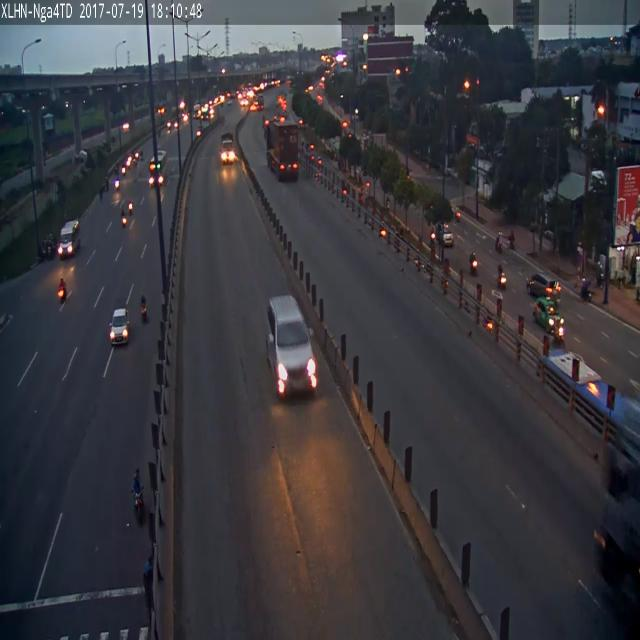car: (134, 493, 145, 525), (58, 277, 66, 301), (141, 296, 148, 323)
traffic-light: (266, 295, 317, 397), (533, 297, 564, 339), (527, 273, 561, 300), (57, 220, 79, 258), (109, 308, 128, 347)
truck: (264, 120, 298, 180)
